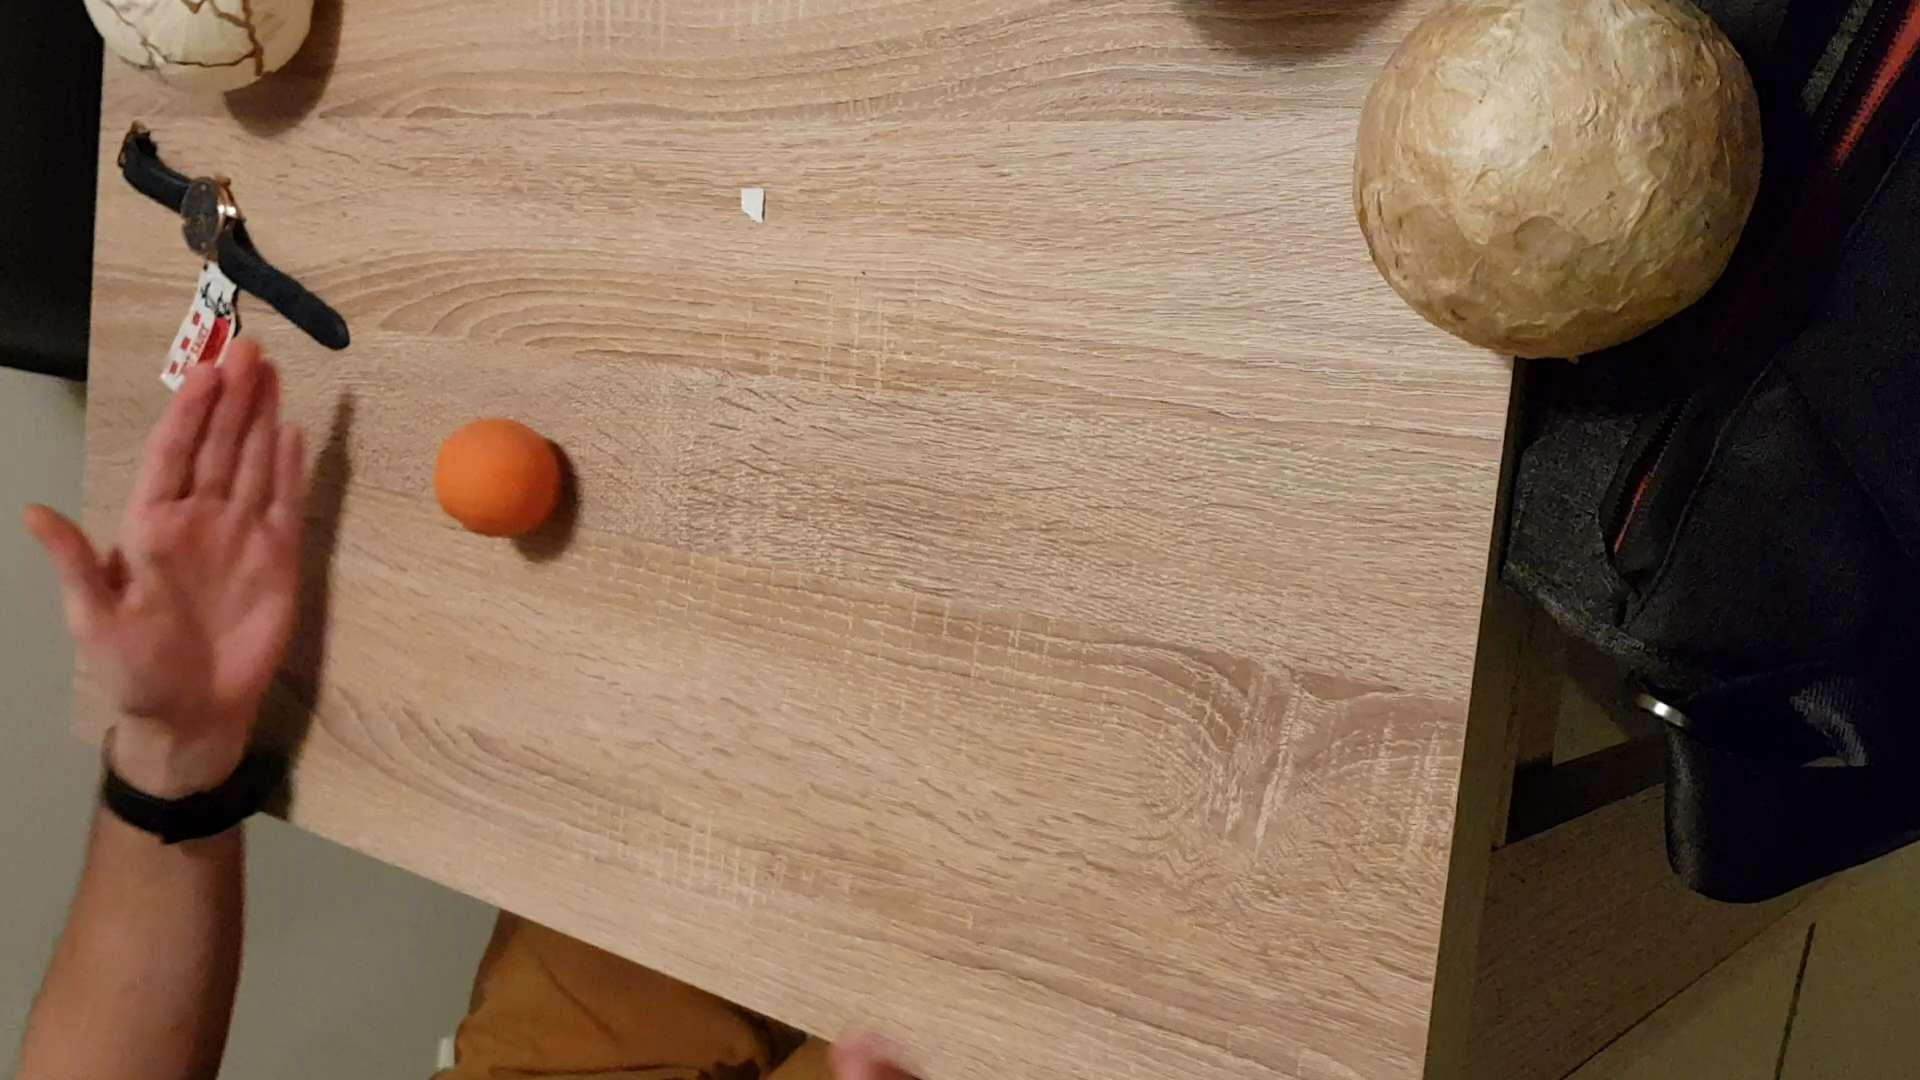Sphere: (426, 415, 558, 542)
sphere: (1335, 0, 1743, 367)
